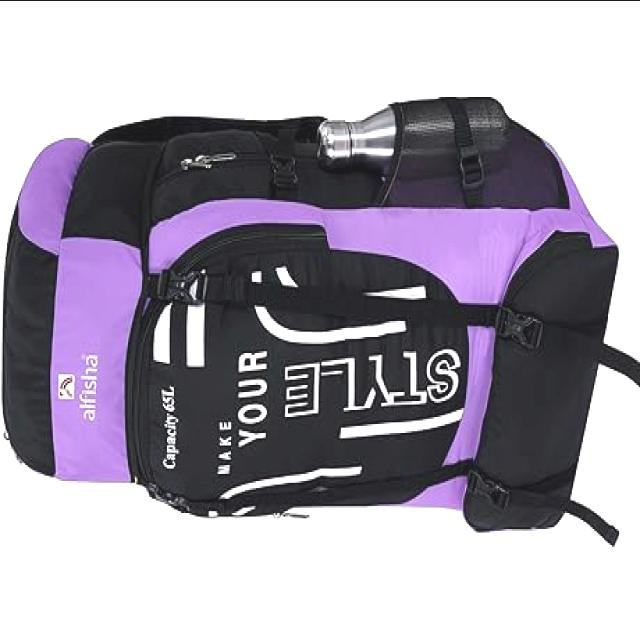backpack: (1, 74, 640, 566)
